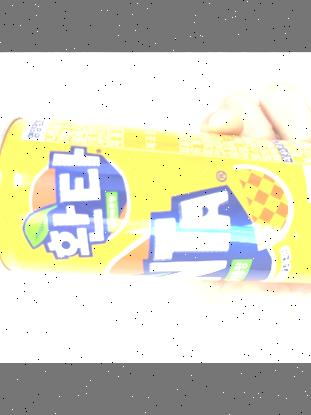Can: (0, 111, 311, 284)
